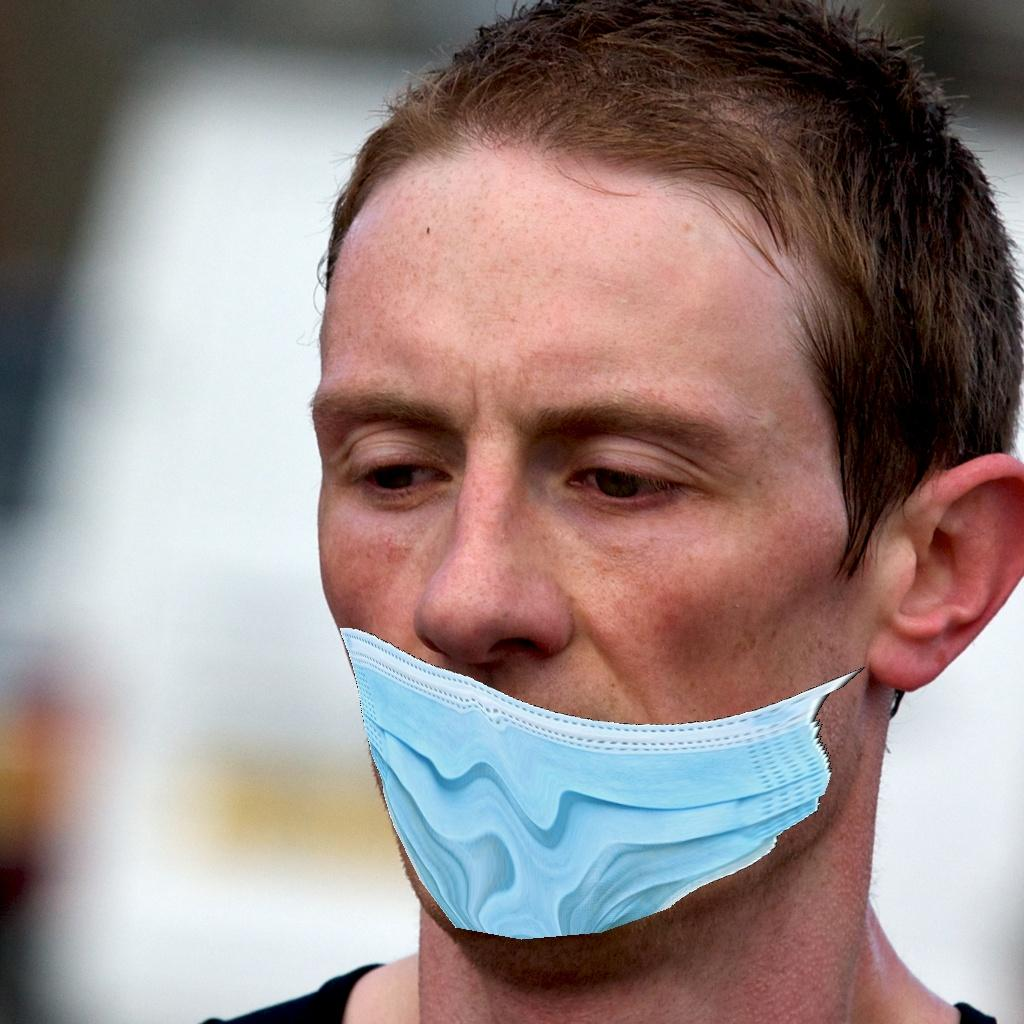Máscara Incorreta: (302, 303, 893, 942)
